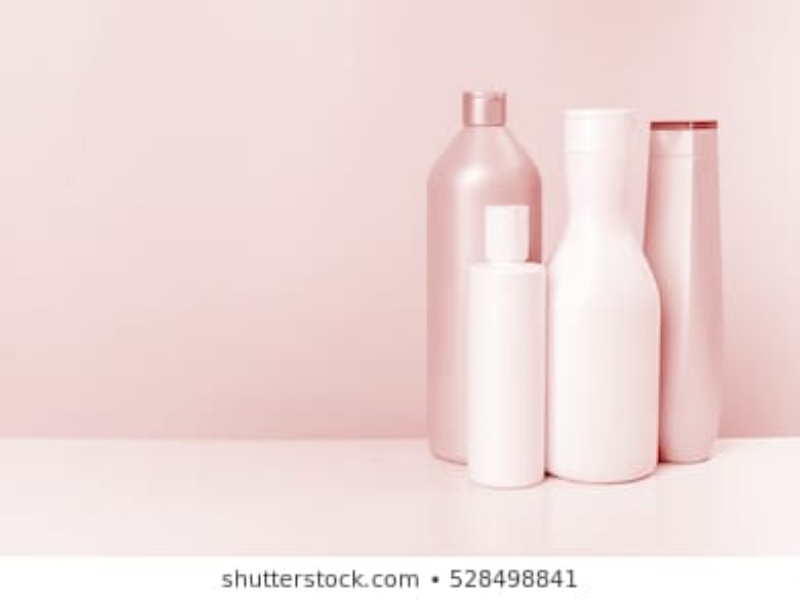shampoo-bottle: (421, 86, 548, 466), (554, 106, 664, 481), (648, 116, 723, 468), (463, 200, 549, 491)
